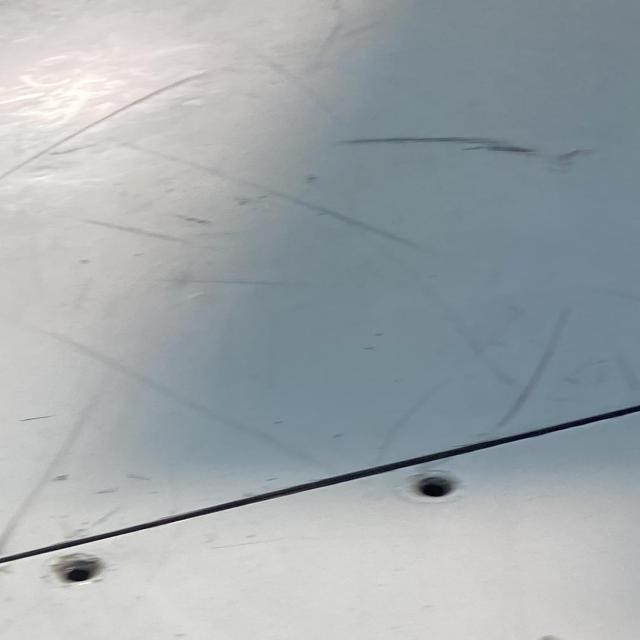Missing-head: (52, 555, 104, 586), (410, 476, 457, 501)
